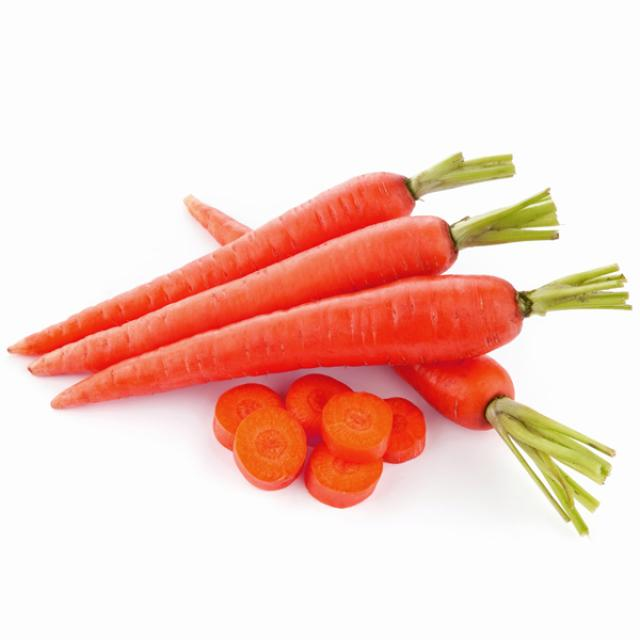Fresh_Carrot: (9, 171, 430, 354), (29, 216, 458, 375), (51, 275, 522, 408)
